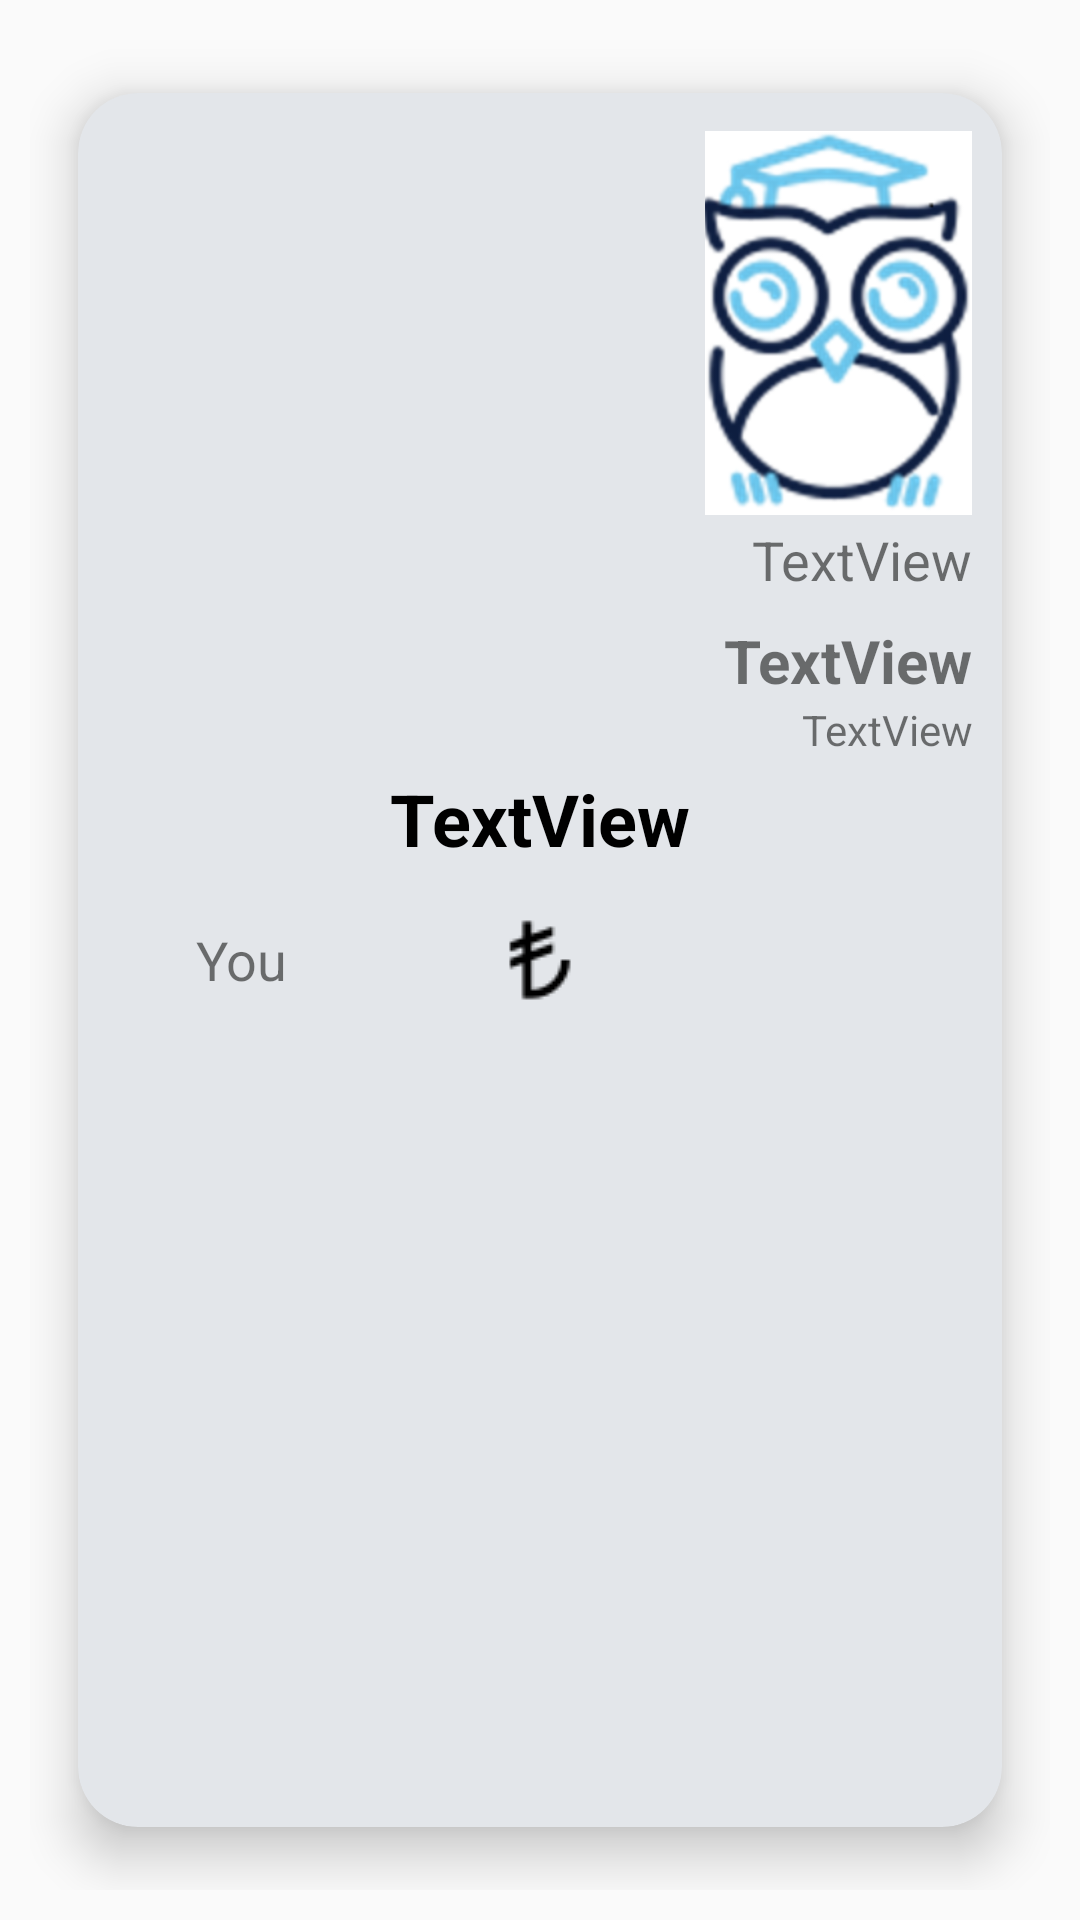

Where to tap for icons on this 1080×1920 app screen, as [x,y]:
currency try: [540,960]
